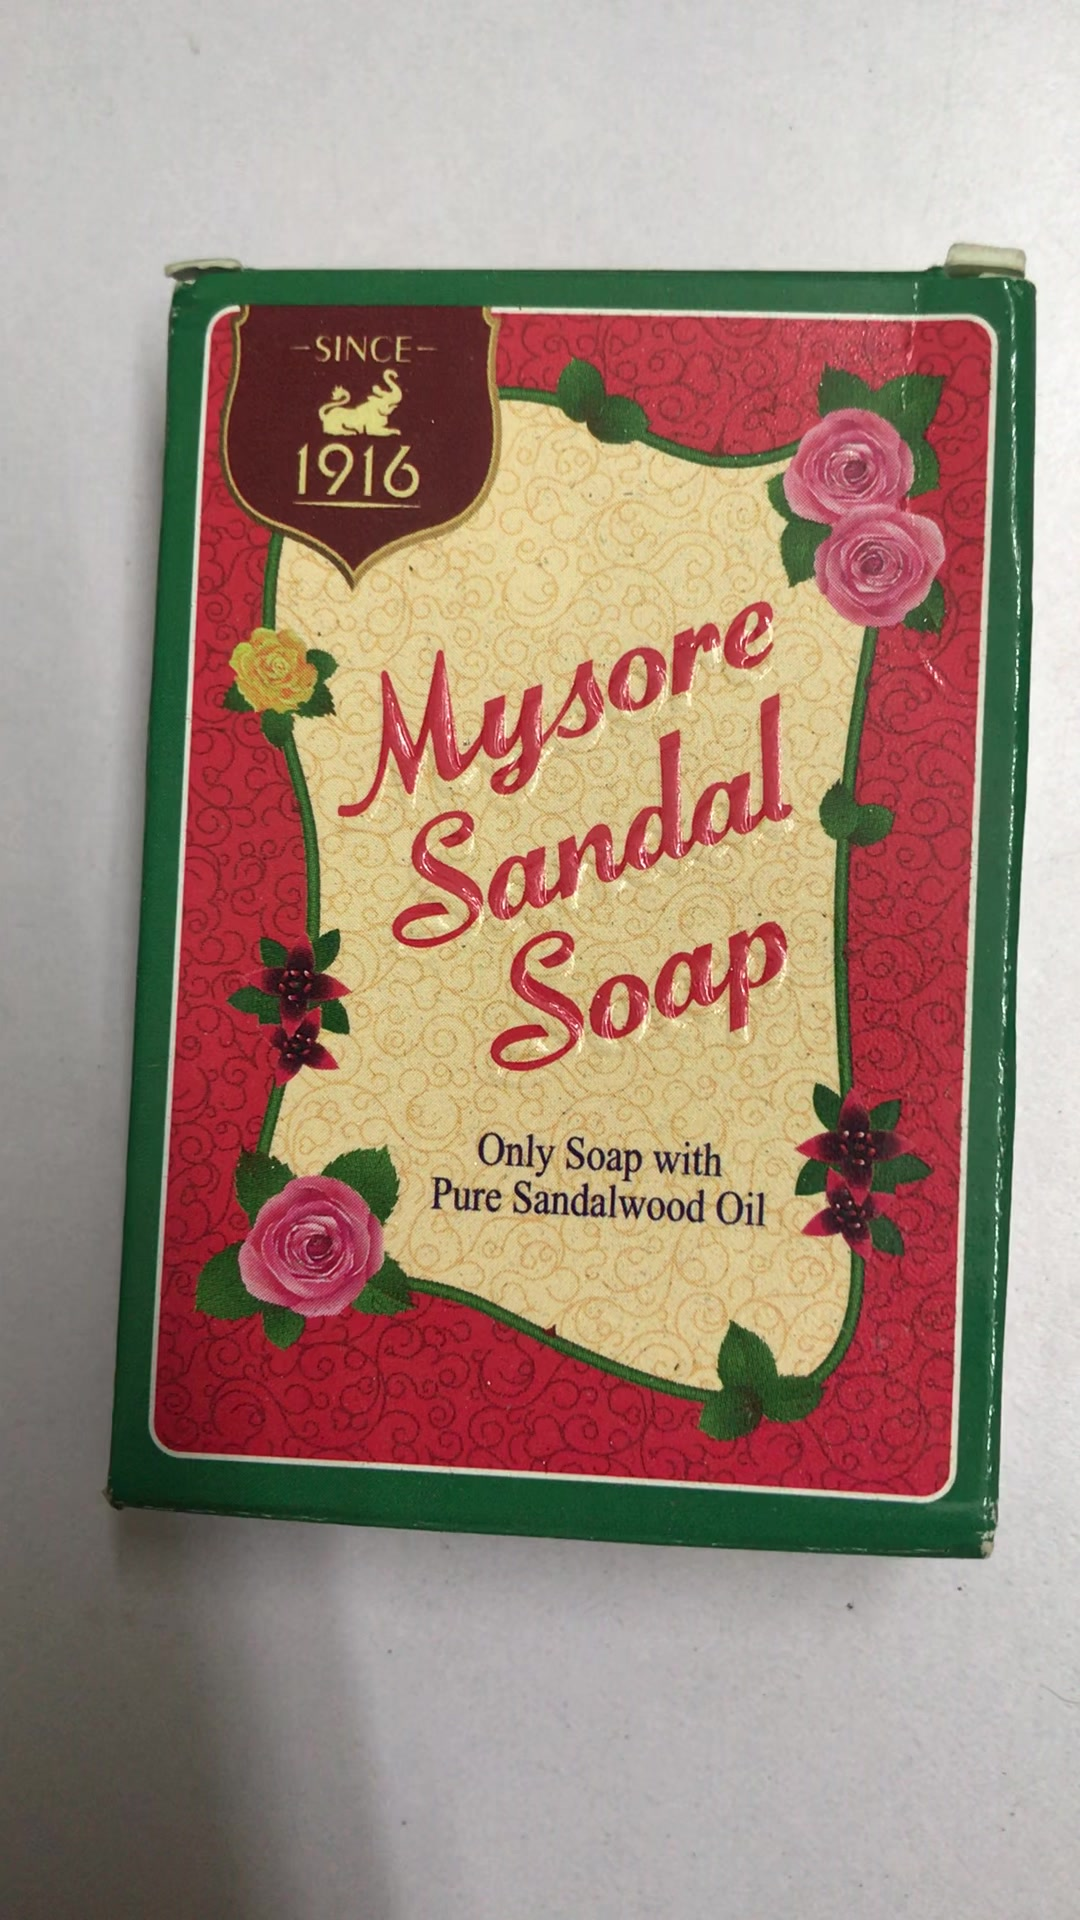mysore sandal soap: (111, 261, 1005, 1553)
